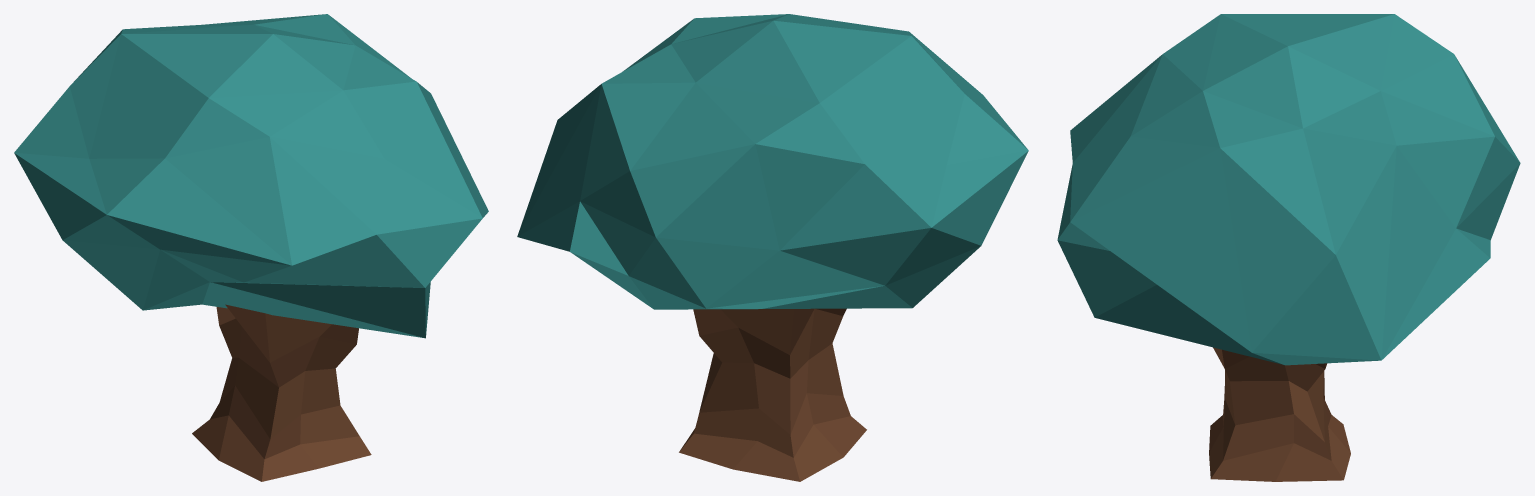
Rendered from Tree_30_Blue.fbx.
The picture shows the model from 3 angles, left to right: view 1: azimuth 30°, elevation 25°; view 2: azimuth 150°, elevation 25°; view 3: azimuth 270°, elevation 25°; orthographic projection. The views are drawn at different scales.
Visible parts, largest first — view 1: Tree_30_Blue_Part_1, Tree_30_Blue_Part_2; view 2: Tree_30_Blue_Part_1, Tree_30_Blue_Part_2; view 3: Tree_30_Blue_Part_1, Tree_30_Blue_Part_2.
Part boxes in pixels (x1,y1,x2,y2): Tree_30_Blue_Part_1: [14, 14, 488, 338]; Tree_30_Blue_Part_2: [192, 304, 371, 481]; Tree_30_Blue_Part_1: [517, 14, 1028, 309]; Tree_30_Blue_Part_2: [679, 308, 866, 481]; Tree_30_Blue_Part_1: [1057, 14, 1520, 365]; Tree_30_Blue_Part_2: [1209, 347, 1350, 481].
Bounding box in the file's own units: 912 × 881 × 915.
